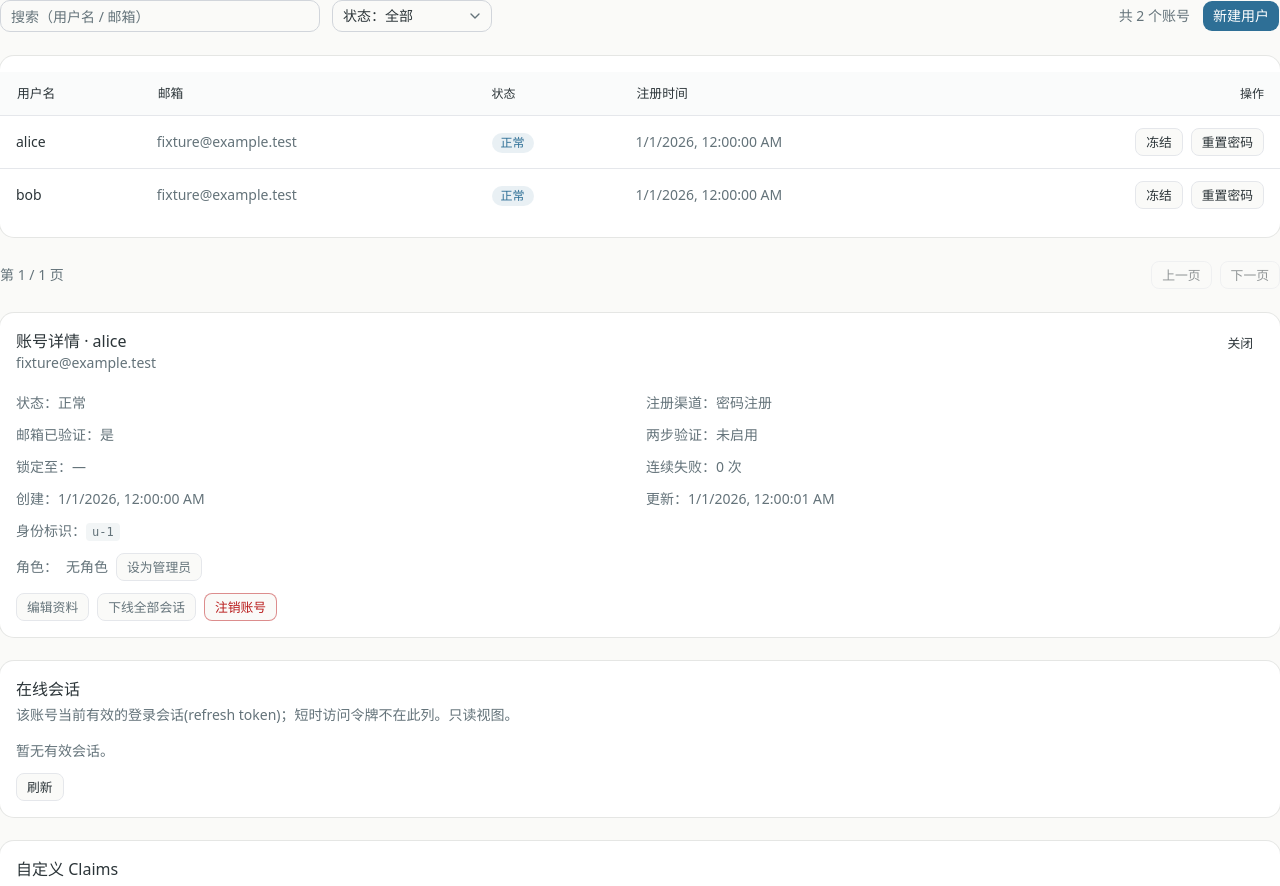
Test: credential and draft ownership › keeps a reset password on same-user refresh, keeps it out of caches/storage, and closes it explicitly
Expected: the text "账号详情 · alice" is shown, left=16, top=330, right=126, bottom=352
Click the 1st button "重置密码" at x=1227, y=142, box left=1191, top=128, right=1264, bottom=156
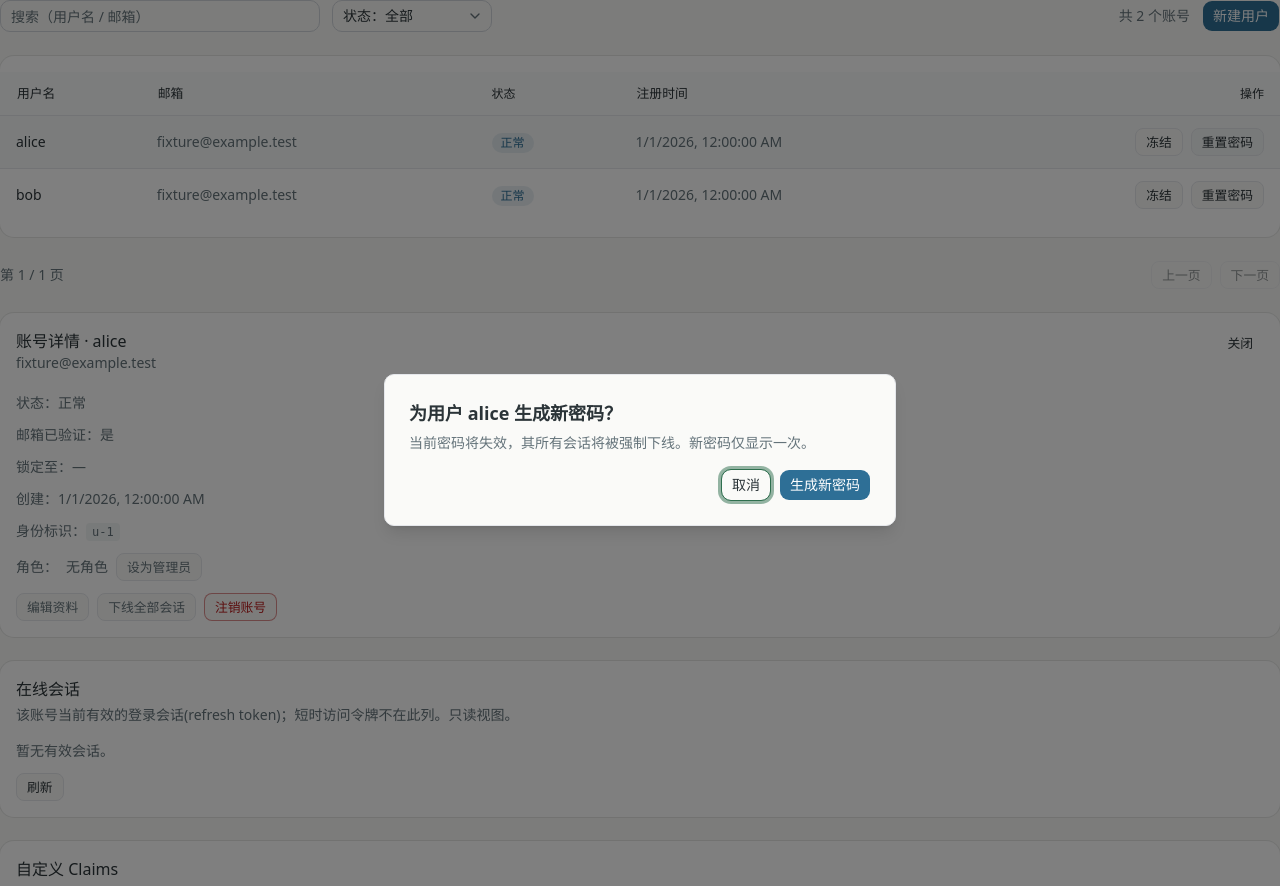
Click the button "生成新密码" at x=825, y=485, box left=779, top=469, right=871, bottom=501
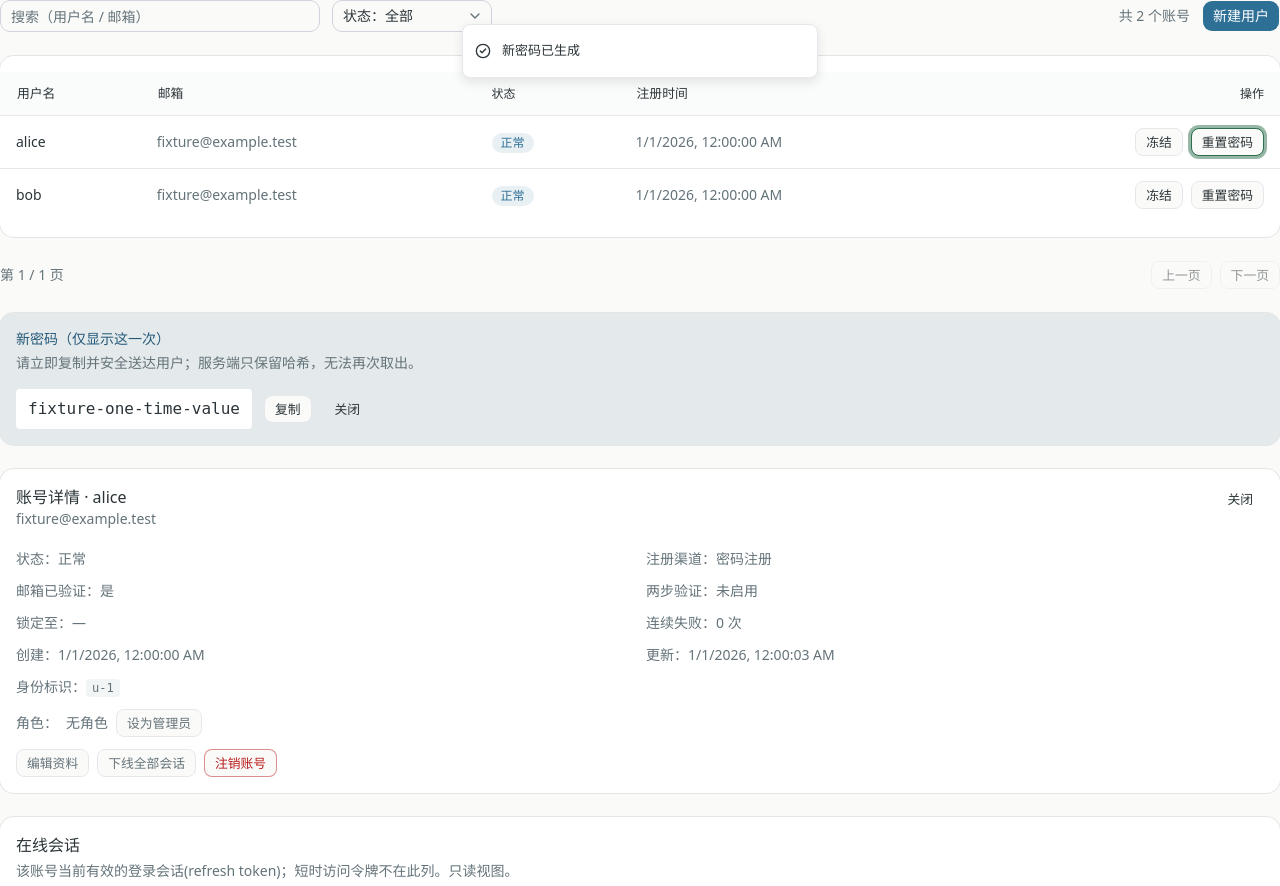
Expected: the dialog is gone
Expected: the text "fixture-one-time-value" is shown, left=16, top=389, right=252, bottom=429
Click the button with aria-label "关闭一次性密码" at x=347, y=409, box left=324, top=395, right=371, bottom=423
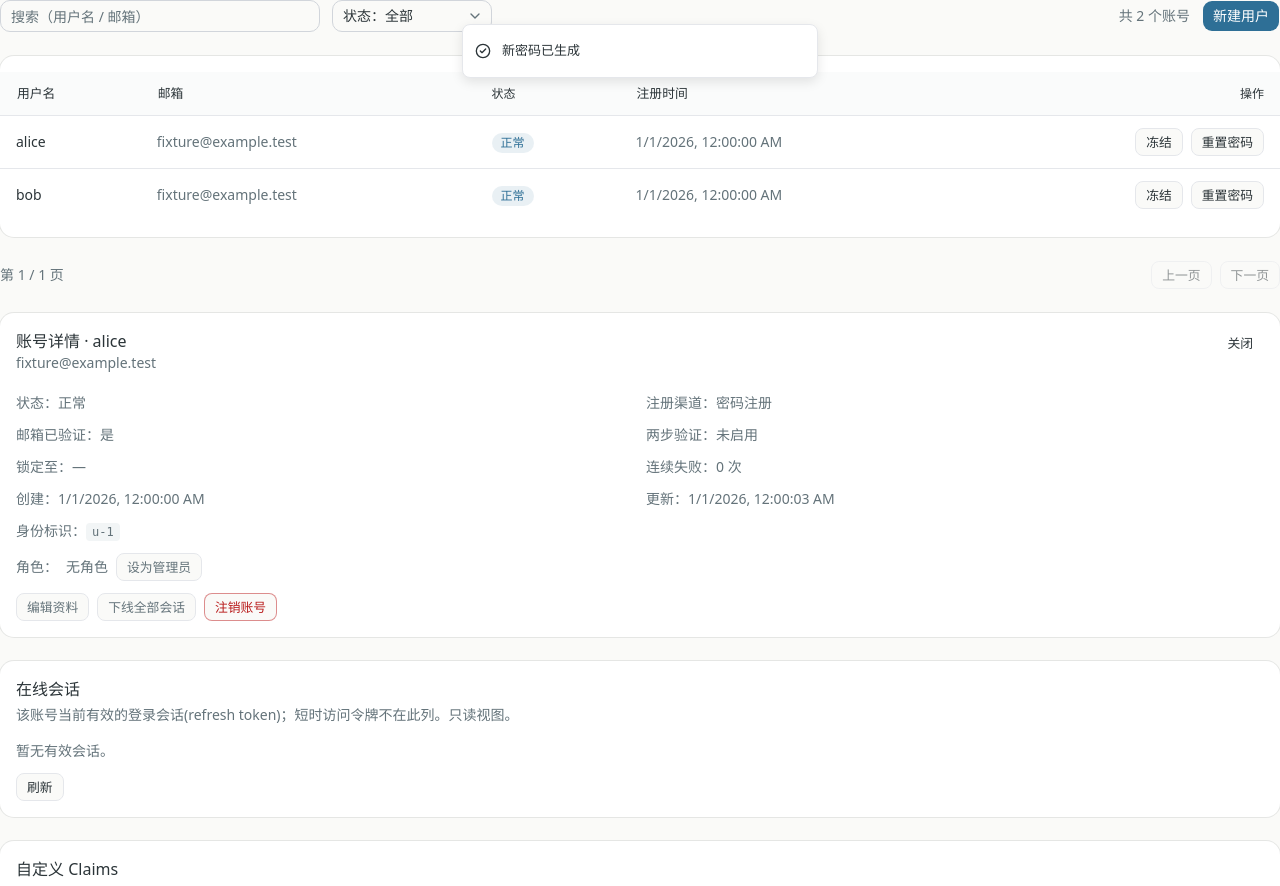
Expected: the text "fixture-one-time-value" is gone
